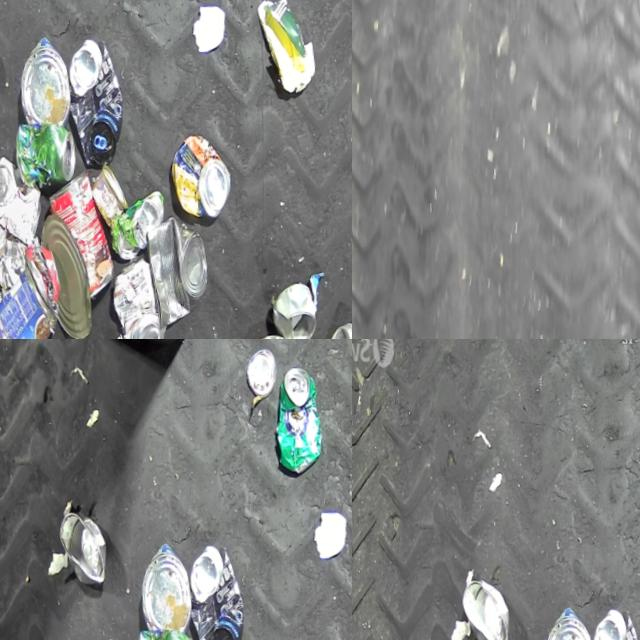can: (45, 161, 131, 298), (63, 28, 137, 162), (144, 203, 224, 325), (40, 205, 108, 337), (183, 533, 257, 640), (270, 354, 331, 469), (171, 121, 243, 214), (0, 255, 77, 339), (114, 246, 180, 339), (18, 27, 81, 123), (139, 533, 202, 629), (0, 146, 55, 244), (18, 112, 88, 186), (113, 178, 176, 256), (57, 503, 116, 586), (460, 566, 519, 640), (275, 270, 329, 339), (93, 155, 139, 223), (541, 596, 604, 640), (586, 597, 640, 640), (238, 316, 321, 339), (243, 339, 279, 391), (139, 617, 208, 640), (325, 305, 352, 339), (0, 282, 14, 339), (41, 330, 109, 339)
